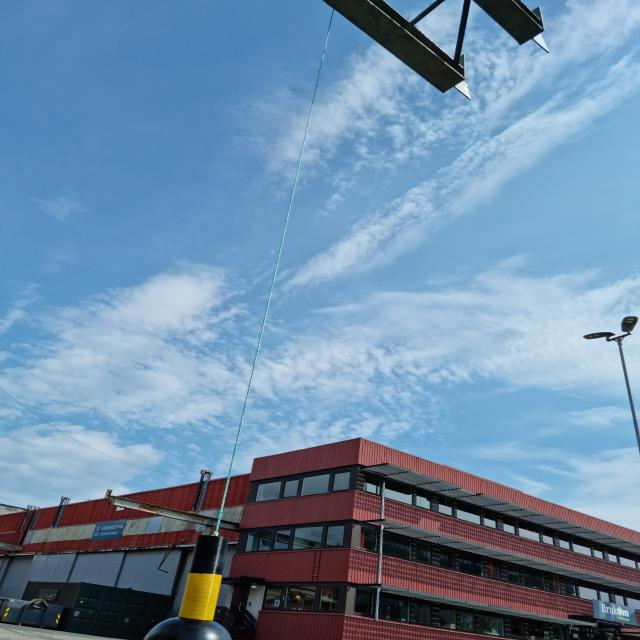east: (146, 535, 244, 640)
